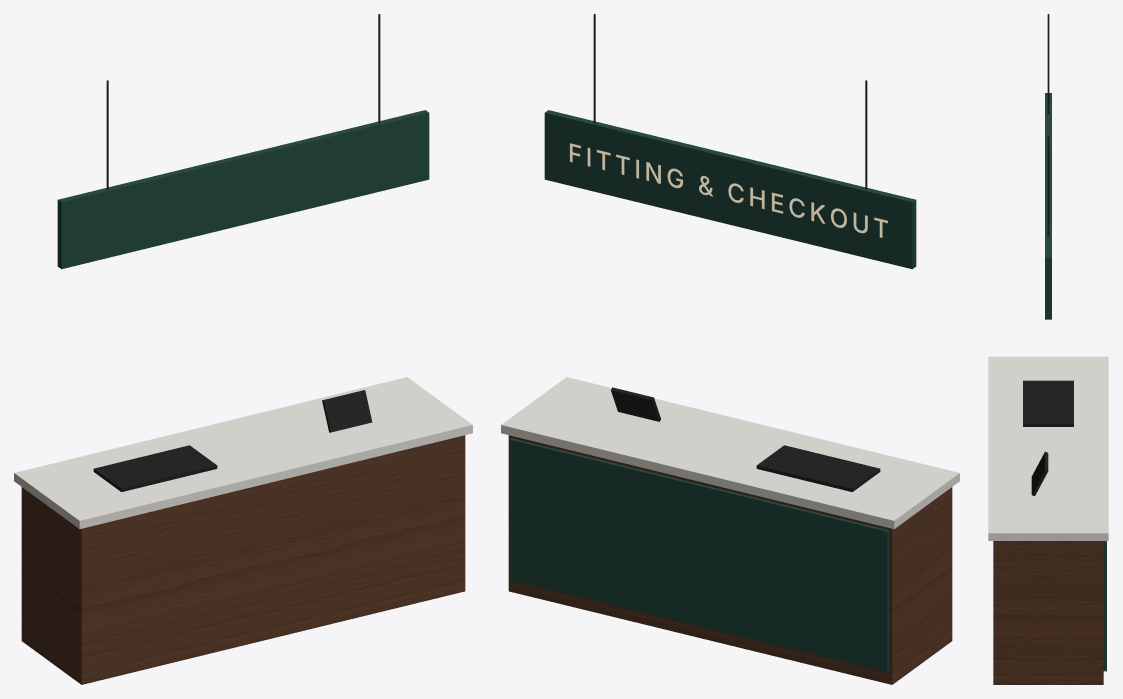
The model's file is Checkout_Counter.glb.
The picture shows the model from 3 angles, left to right: view 1: azimuth 30°, elevation 25°; view 2: azimuth 150°, elevation 25°; view 3: azimuth 270°, elevation 25°; orthographic projection. The views are drawn at different scales.
Parts seen in each view (by area): view 1: Checkout_Counter_Walnut, Checkout_Counter_Green_Panels, Checkout_Counter_Stone, Checkout_Counter_Black_Metal; view 2: Checkout_Counter_Green_Fluted, Checkout_Counter_Stone, Checkout_Counter_Green_Panels, Checkout_Counter_Walnut, Checkout_Counter_Black_Metal, Sign_FITTING_CHECKOUT; view 3: Checkout_Counter_Stone, Checkout_Counter_Walnut, Checkout_Counter_Black_Metal, Checkout_Counter_Green_Panels, Checkout_Counter_Green_Fluted.
Boxes of the visible parts, x1=… form: Checkout_Counter_Walnut: x1=21, y1=435, x2=465, y2=684; Checkout_Counter_Green_Panels: x1=57, y1=110, x2=429, y2=269; Checkout_Counter_Stone: x1=14, y1=377, x2=472, y2=529; Checkout_Counter_Black_Metal: x1=93, y1=14, x2=380, y2=491; Checkout_Counter_Green_Fluted: x1=510, y1=438, x2=888, y2=671; Checkout_Counter_Stone: x1=501, y1=377, x2=959, y2=529; Checkout_Counter_Green_Panels: x1=544, y1=110, x2=916, y2=269; Checkout_Counter_Walnut: x1=508, y1=435, x2=952, y2=684; Checkout_Counter_Black_Metal: x1=593, y1=14, x2=880, y2=491; Sign_FITTING_CHECKOUT: x1=569, y1=143, x2=887, y2=237; Checkout_Counter_Stone: x1=988, y1=356, x2=1108, y2=540; Checkout_Counter_Walnut: x1=993, y1=541, x2=1103, y2=684; Checkout_Counter_Black_Metal: x1=1023, y1=14, x2=1073, y2=496; Checkout_Counter_Green_Panels: x1=1045, y1=93, x2=1051, y2=319; Checkout_Counter_Green_Fluted: x1=1103, y1=541, x2=1106, y2=671.
Size of the model in its own units: 2.46 by 3.4 by 0.71.
6 materials, 2 textured.
